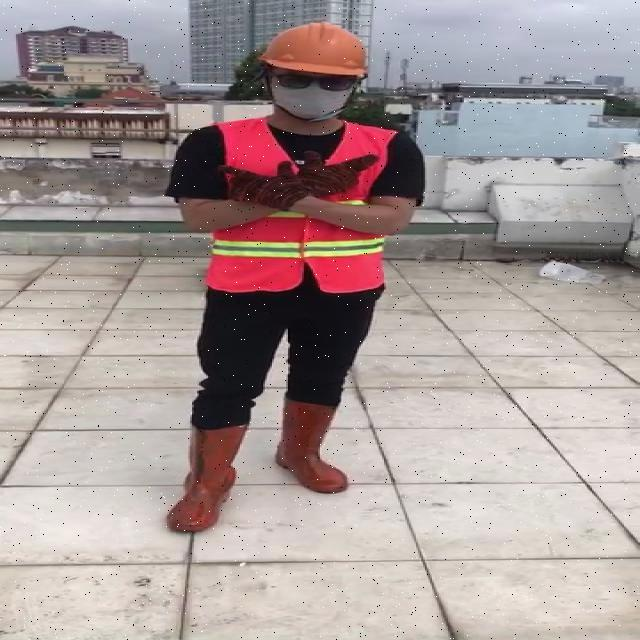Hard_hat: (253, 14, 373, 83)
Person: (161, 18, 439, 558)
Vest: (207, 118, 391, 301)
